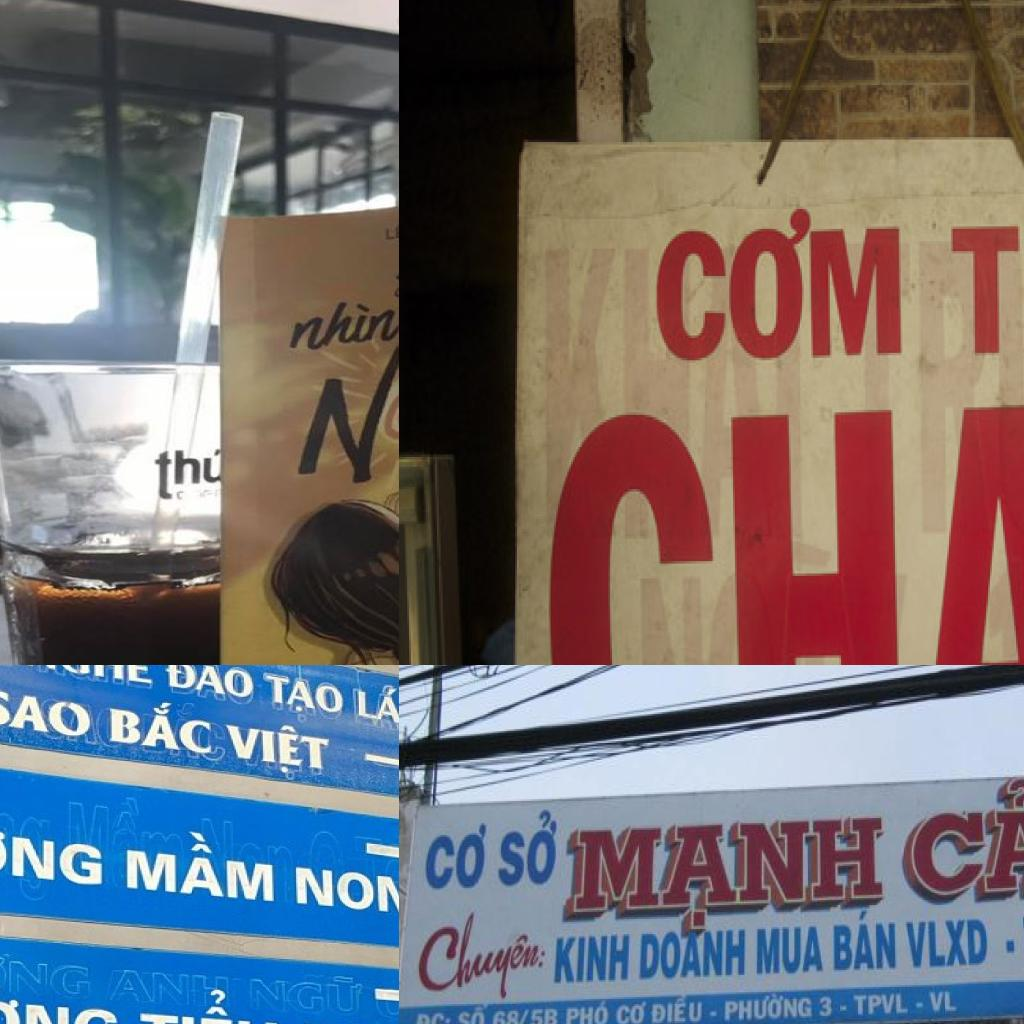text: (653, 199, 910, 368), (574, 811, 891, 934), (276, 328, 399, 495), (947, 144, 1024, 360), (906, 770, 1024, 910), (418, 897, 552, 1009), (123, 826, 280, 910), (0, 795, 110, 899), (0, 966, 125, 1024), (104, 698, 217, 761), (222, 719, 335, 782), (638, 926, 748, 985), (285, 299, 399, 355), (291, 862, 399, 920), (0, 683, 97, 747), (494, 806, 565, 891), (133, 986, 283, 1024), (422, 820, 490, 895), (903, 915, 992, 972), (830, 905, 900, 975), (552, 931, 634, 990), (262, 671, 346, 726), (754, 924, 828, 980), (20, 665, 162, 692), (165, 665, 256, 706), (723, 990, 815, 1024), (353, 673, 399, 733), (852, 989, 910, 1019), (650, 994, 705, 1024), (490, 1005, 562, 1024), (563, 999, 612, 1024), (455, 1000, 492, 1024), (928, 989, 960, 1016), (616, 999, 650, 1024), (413, 1007, 453, 1024), (817, 992, 834, 1021), (385, 219, 399, 242)
